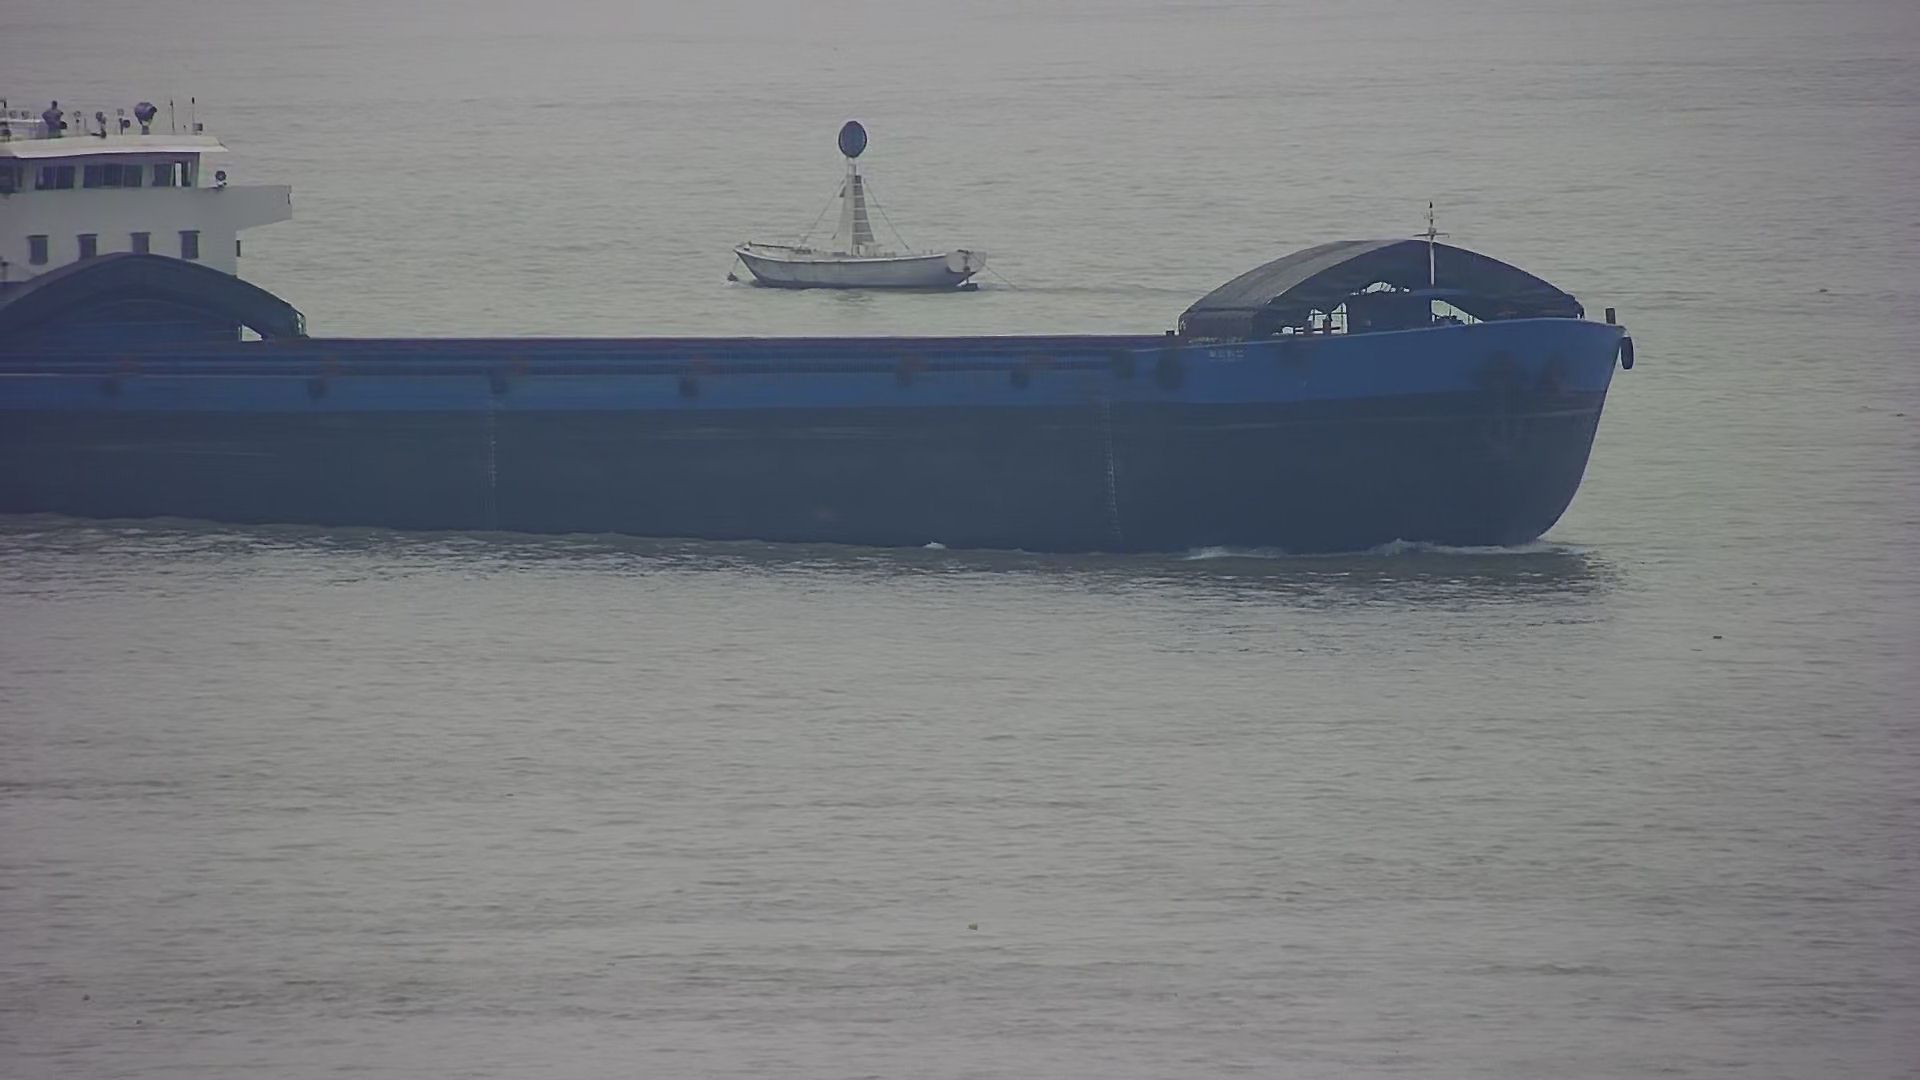boat: (731, 119, 990, 295)
ship: (3, 100, 1639, 553)
